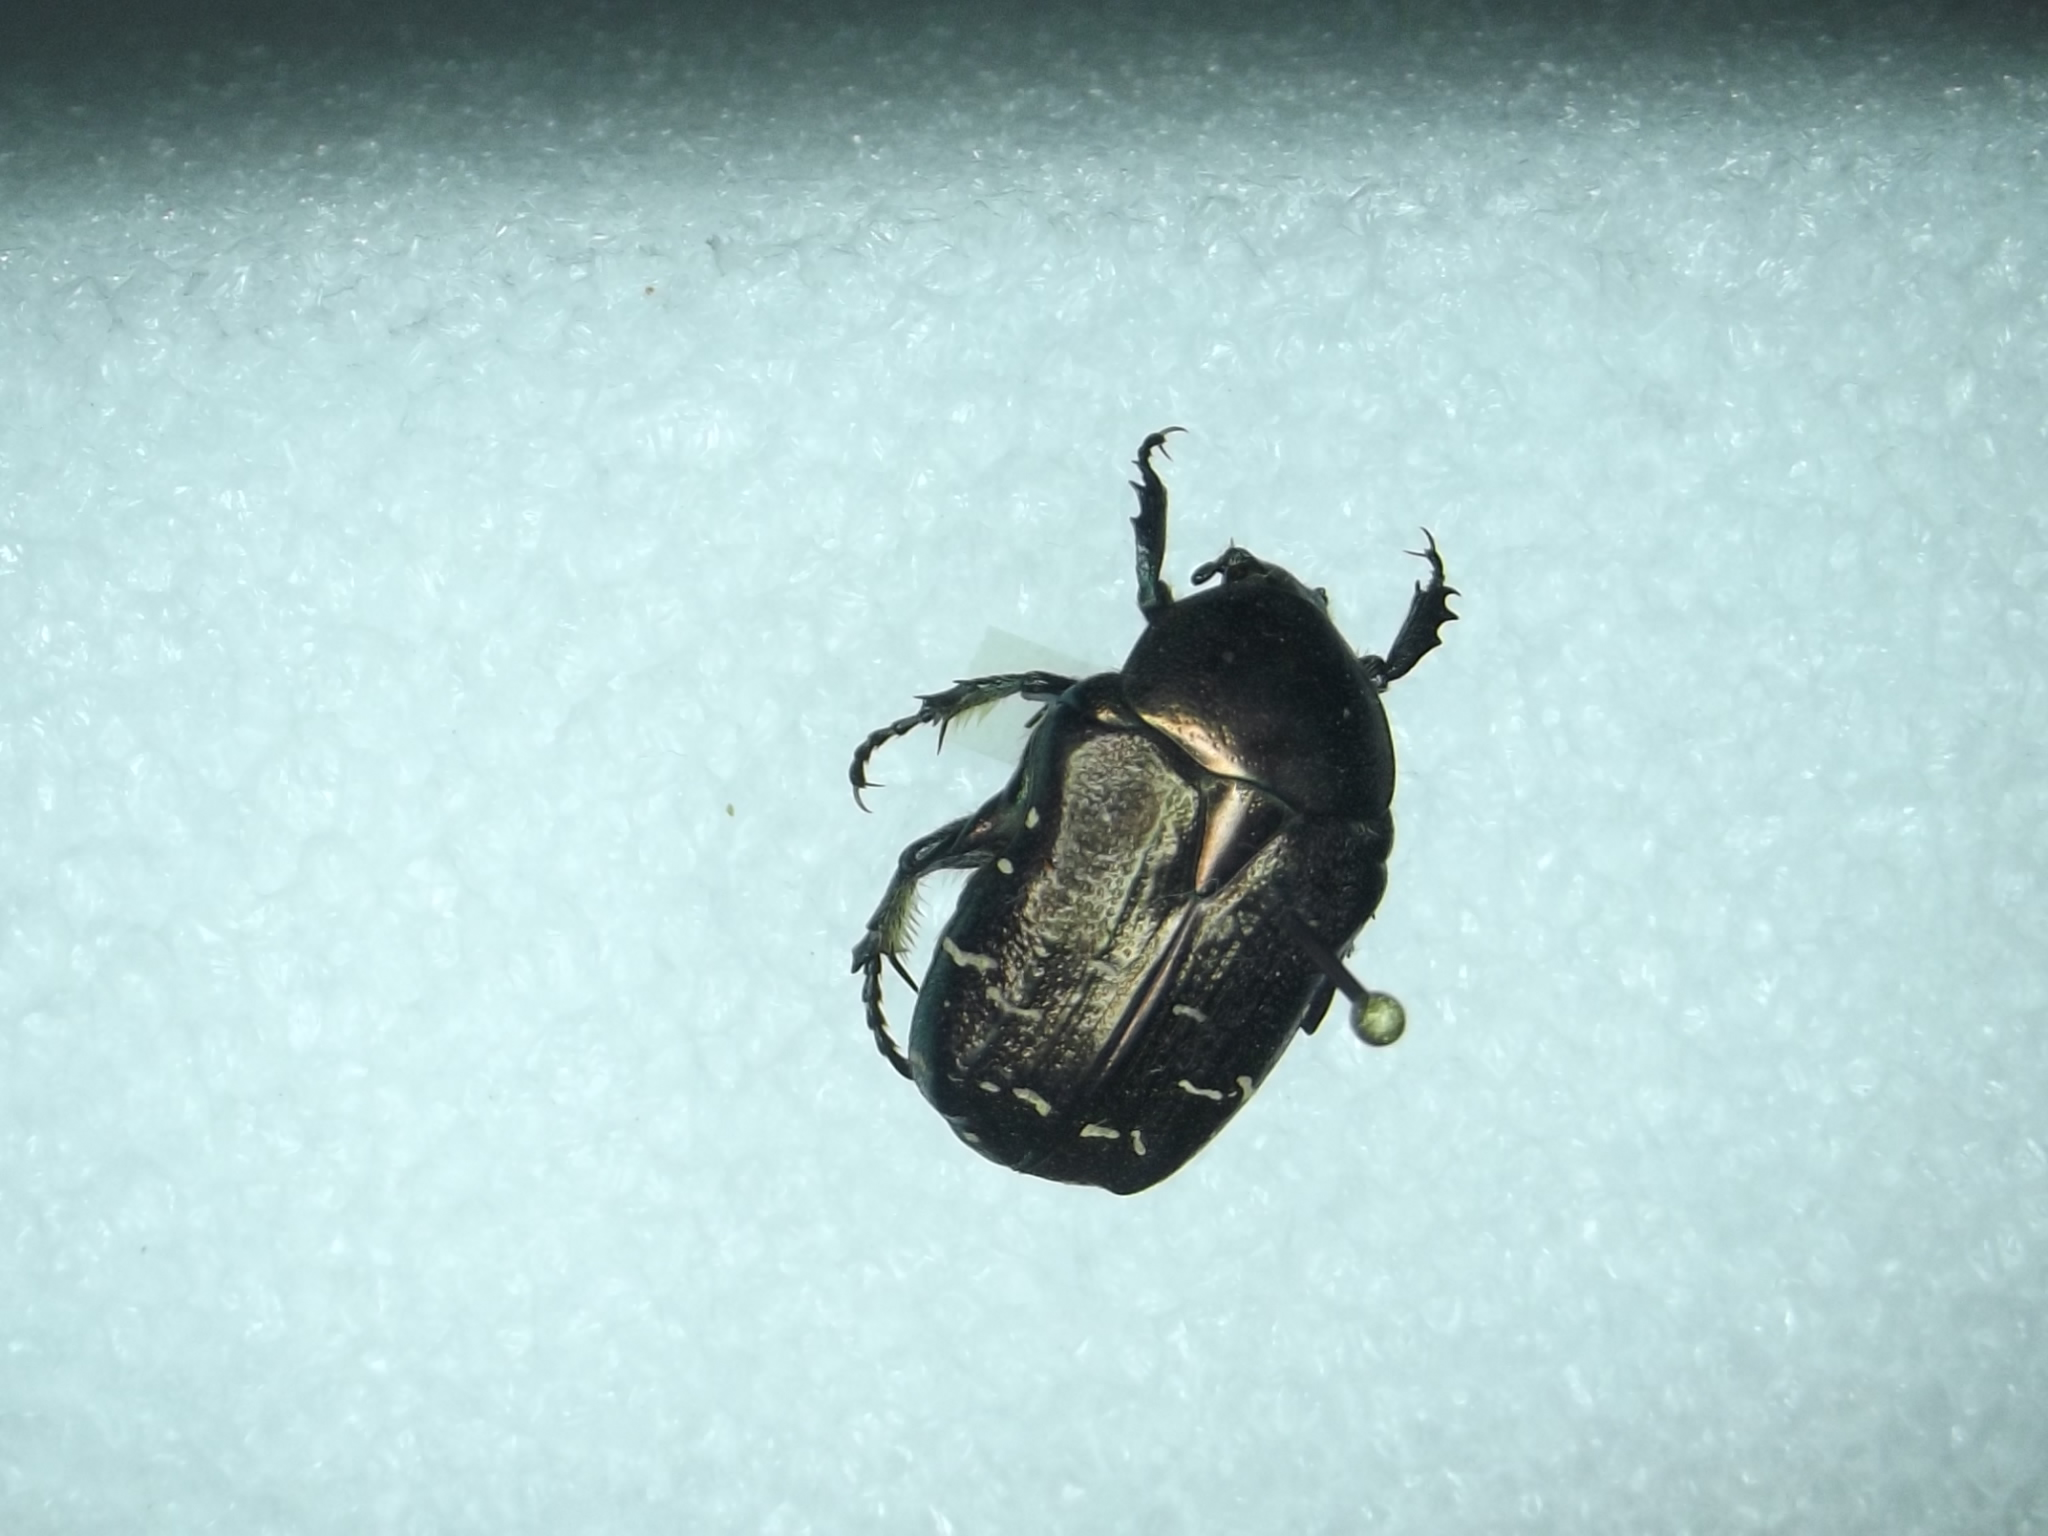Cetonia_aurata: (803, 369, 1469, 1246)
